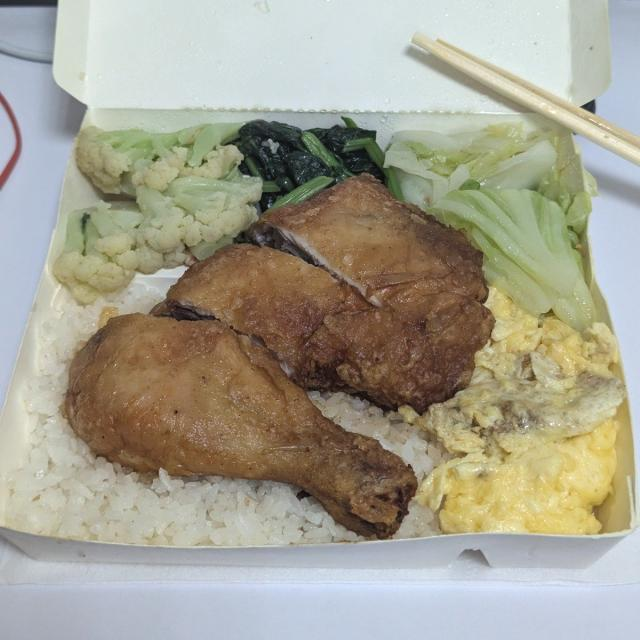Chicken Leg Steak: (165, 253, 442, 450)
Fushan-lettuce: (275, 136, 346, 169)
cabbage: (429, 157, 574, 249)
cauliflower: (88, 126, 232, 236)
